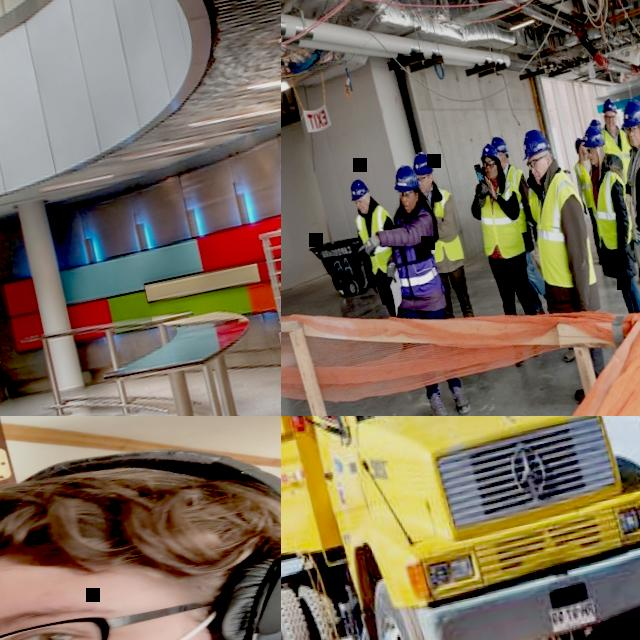Hardhat: (516, 126, 550, 160), (388, 162, 420, 194), (615, 96, 640, 128), (409, 149, 434, 176), (578, 122, 603, 149), (347, 176, 370, 202), (476, 140, 500, 164), (489, 134, 508, 154), (599, 96, 617, 115), (572, 136, 586, 154), (588, 116, 602, 128)
NO-Hardhat: (0, 424, 281, 634)
NO-Mask: (532, 168, 545, 185), (628, 133, 640, 146), (402, 200, 414, 213), (484, 168, 496, 180), (605, 121, 616, 131), (357, 203, 368, 213), (588, 156, 598, 164), (419, 184, 429, 192), (581, 147, 586, 153)
Person: (0, 416, 281, 640), (340, 159, 474, 416), (506, 121, 624, 409), (457, 138, 552, 367), (567, 120, 640, 316), (345, 173, 419, 353), (488, 130, 553, 314), (408, 147, 476, 320), (603, 93, 640, 385), (592, 95, 640, 287), (566, 134, 610, 264), (521, 170, 544, 224), (588, 116, 603, 139)
Safety Vest: (520, 165, 600, 293), (382, 203, 450, 298), (469, 176, 532, 262), (583, 168, 637, 252), (352, 201, 403, 275), (417, 186, 464, 264), (600, 124, 637, 186), (501, 163, 534, 231), (571, 160, 597, 210)
vehicle: (281, 416, 640, 640)
